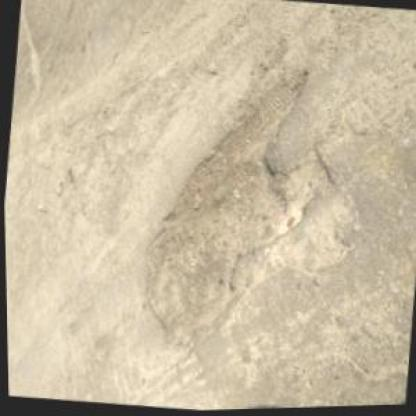pothole: (125, 48, 349, 368)
